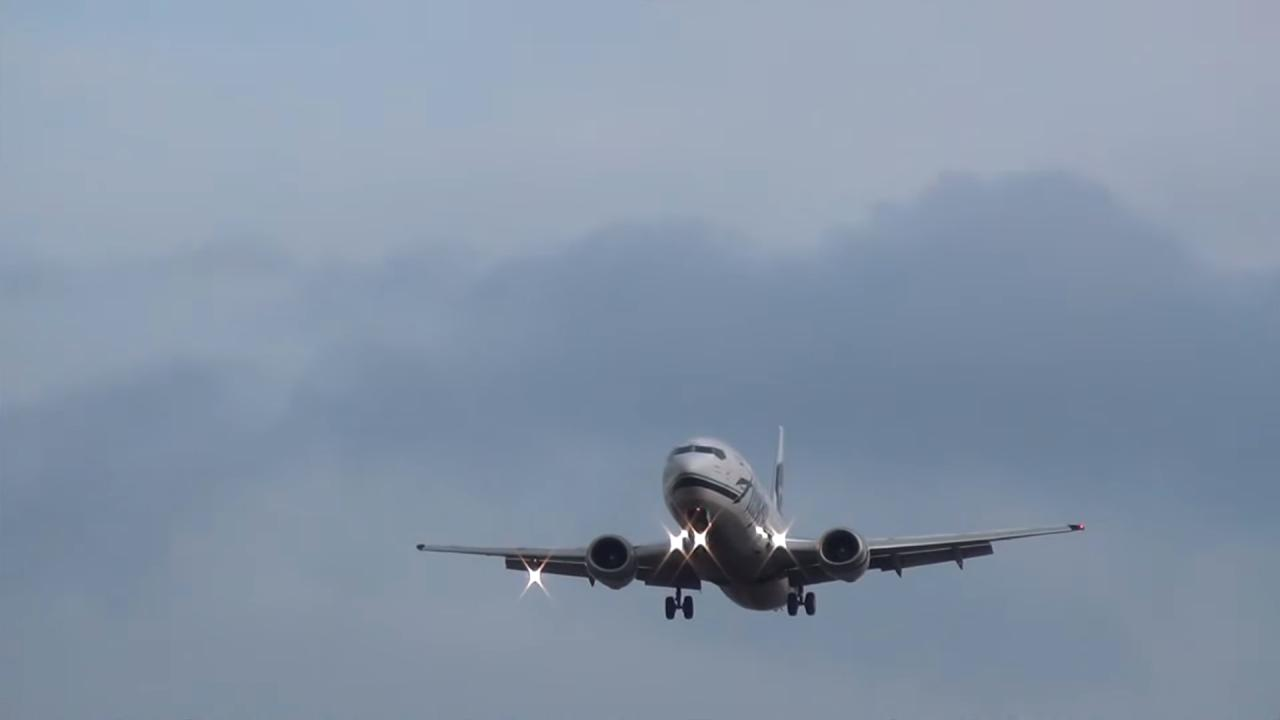Airplane: (403, 410, 1096, 628)
